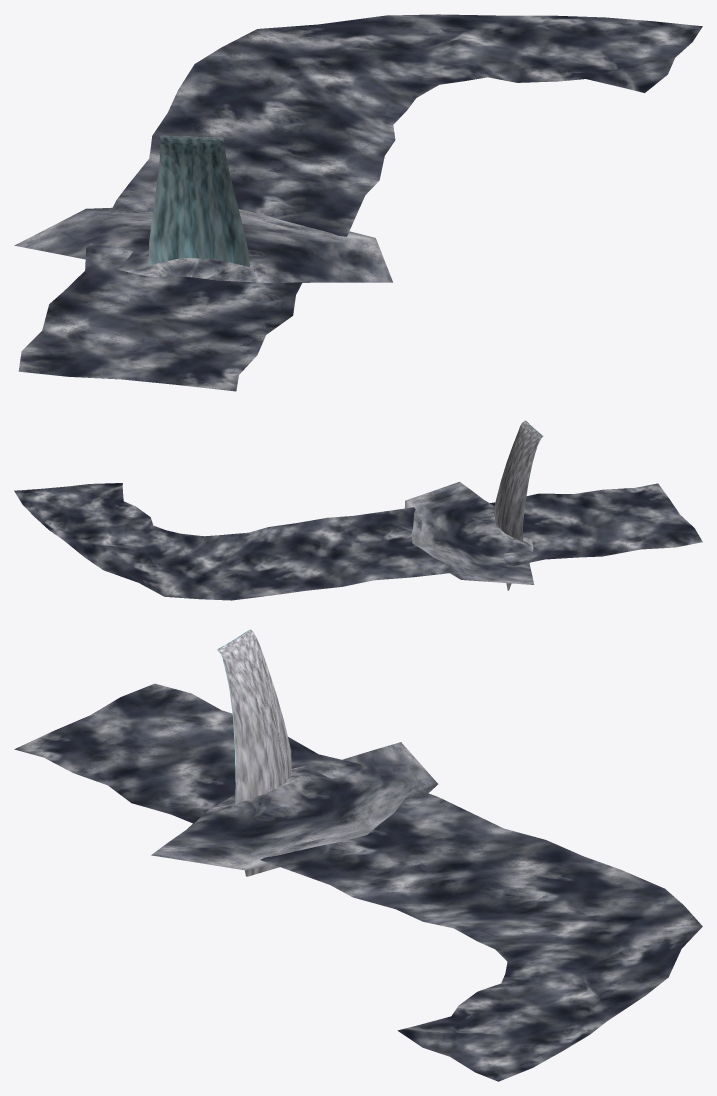
File: MIRKWOOD_WATER01.fbx
3 views of the same model, one above another, from view 1: azimuth 30°, elevation 25°; view 2: azimuth 150°, elevation 25°; view 3: azimuth 270°, elevation 25° (orthographic). The views are drawn at different scales.
Visible parts, largest first — view 1: MIRKWOOD_WATER01; view 2: MIRKWOOD_WATER01; view 3: MIRKWOOD_WATER01.
Boxes of the visible parts, bbox=[...] form: MIRKWOOD_WATER01: bbox=[14, 14, 702, 391]; MIRKWOOD_WATER01: bbox=[14, 420, 702, 600]; MIRKWOOD_WATER01: bbox=[14, 629, 702, 1081].
Size of the model in its own units: 612047 by 157806 by 447171.
Materials: 5 (5 with a texture image).
